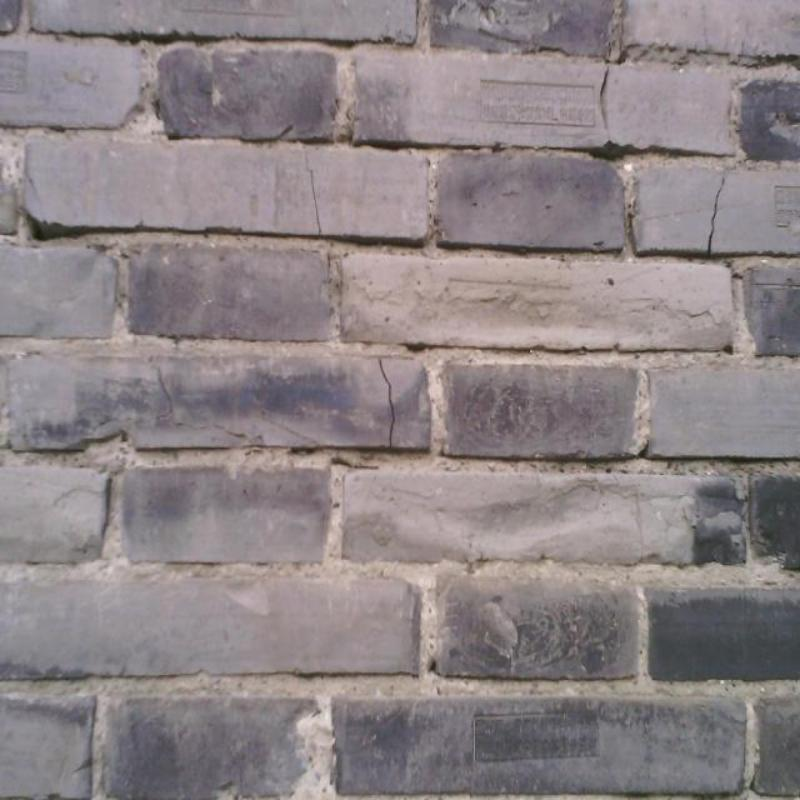pothole: (378, 358, 395, 447), (306, 151, 322, 235), (708, 177, 725, 254), (156, 369, 172, 418), (600, 69, 610, 128), (34, 222, 46, 242)
